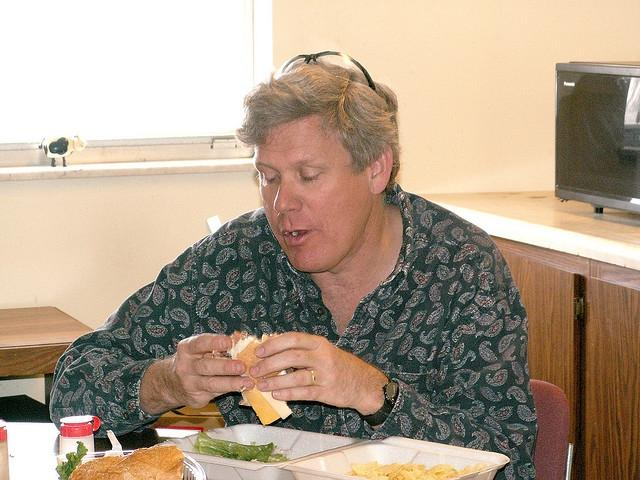lettuce: (198, 438, 274, 462), (56, 441, 88, 479)
